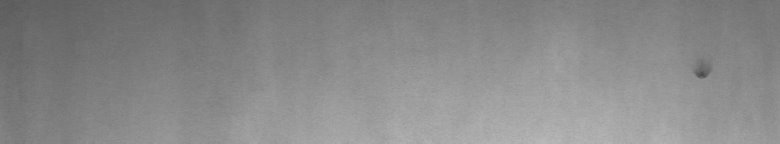fi: (692, 67, 712, 84)
